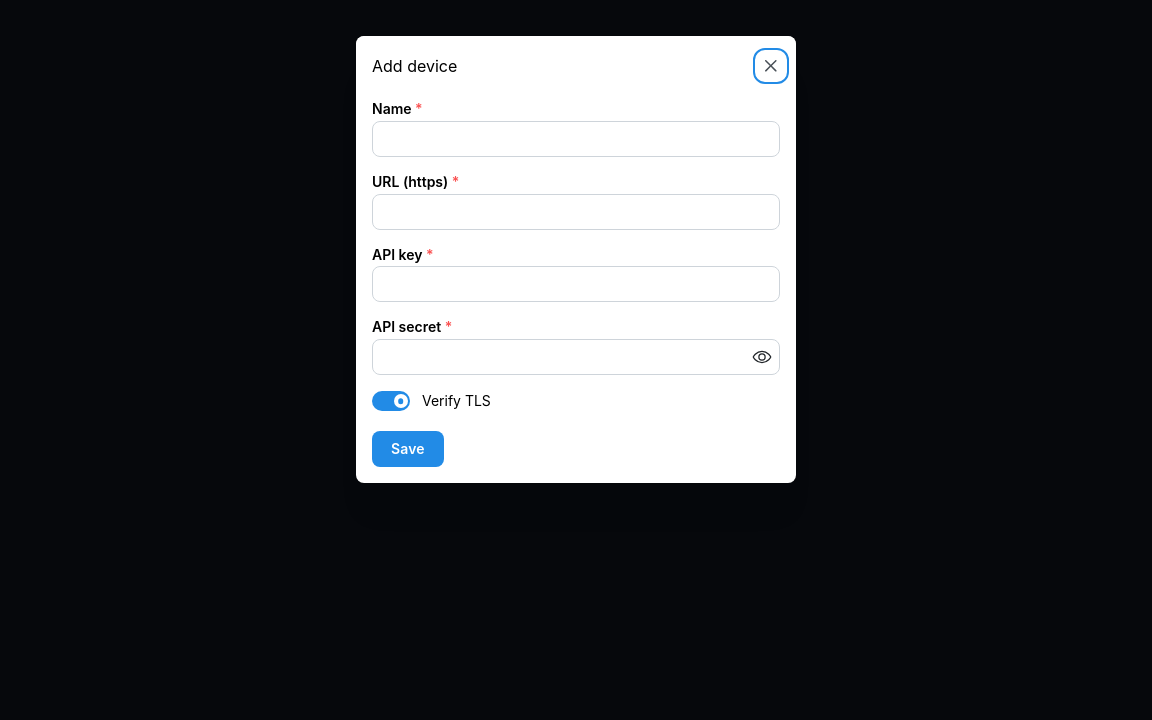
DeviceCreateModal › shows the warning and fingerprint field once verification is switched off
Step 1. Click the switch labelled "Verify TLS" → click(431, 401), box [372, 391, 491, 411]
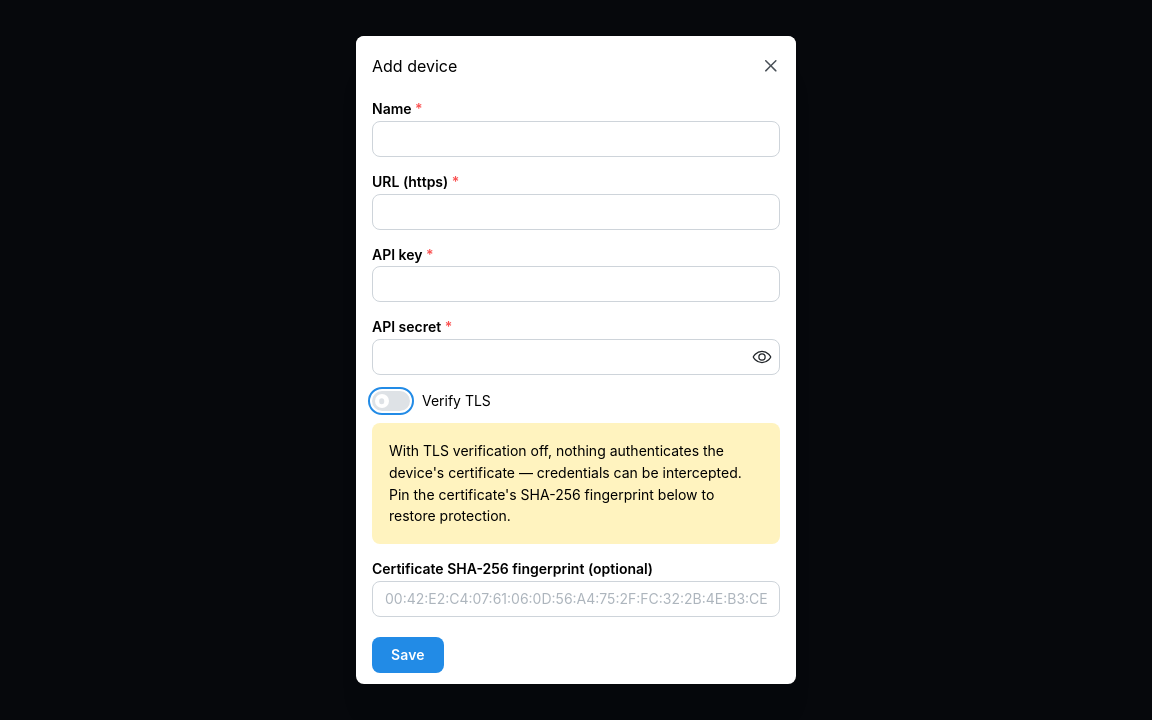
Expected: the message with test id "verify-tls-warning" is shown, [372, 423, 780, 544]
Expected: the field with test id "tls-fingerprint" is shown, [372, 581, 780, 617]
